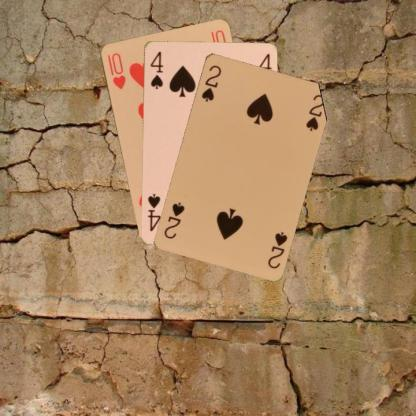10h: (104, 50, 127, 90)
2s: (198, 62, 223, 103), (265, 228, 288, 270)
4s: (147, 49, 164, 90)
